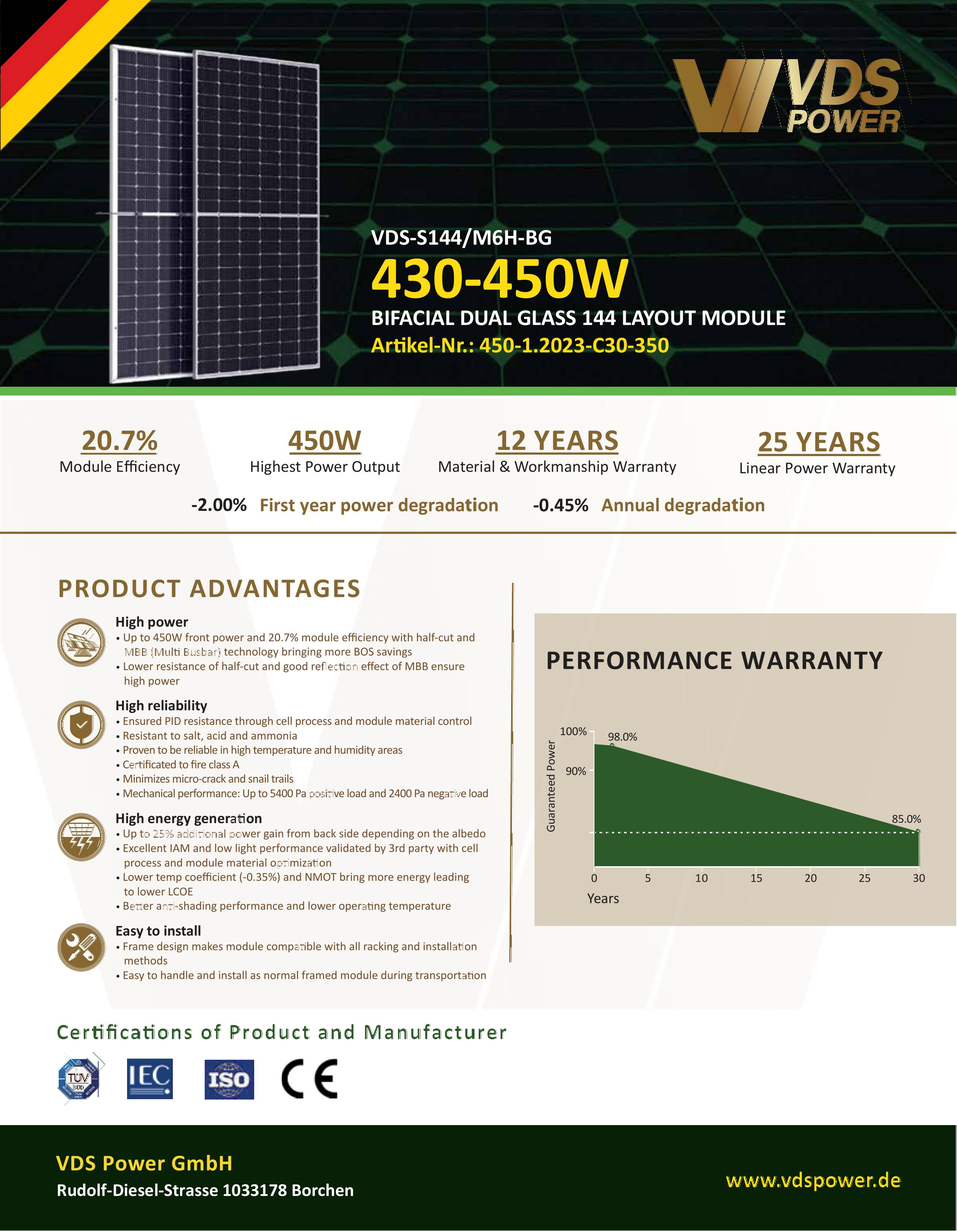no object: (37, 414, 921, 481), (554, 860, 942, 912), (556, 715, 658, 785)
